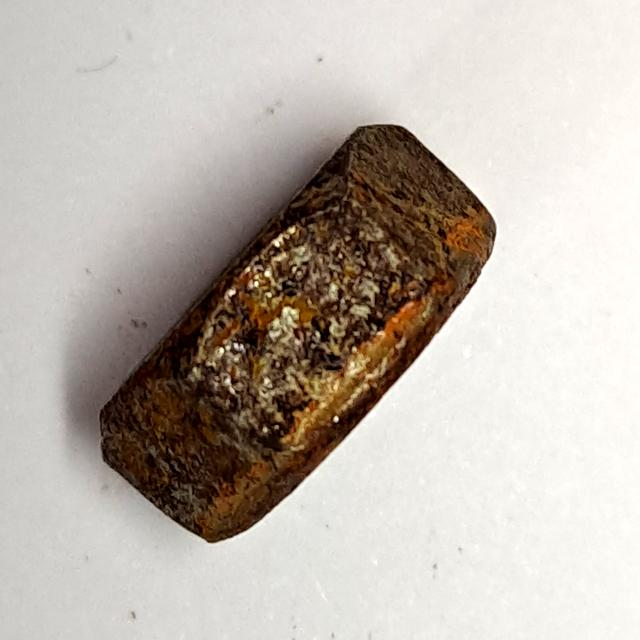Side_Rust: (66, 107, 527, 563)
